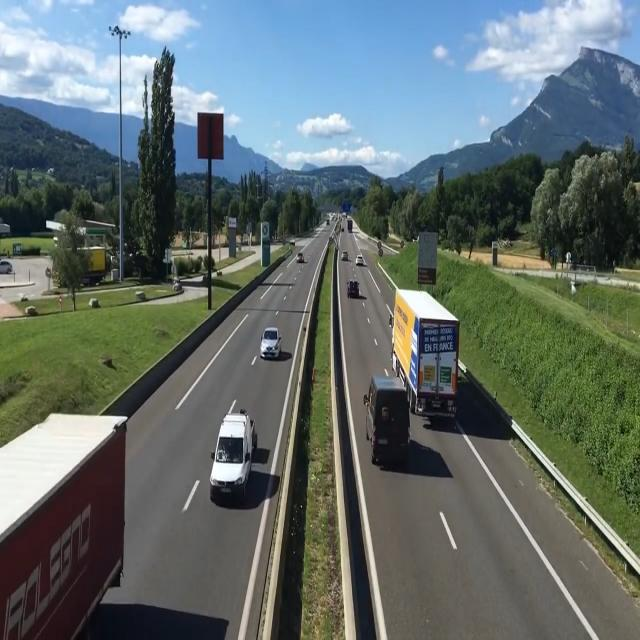car: (211, 403, 256, 505), (358, 376, 410, 462), (257, 322, 283, 363), (348, 278, 362, 302), (295, 249, 308, 267)
truck: (386, 286, 441, 377)
